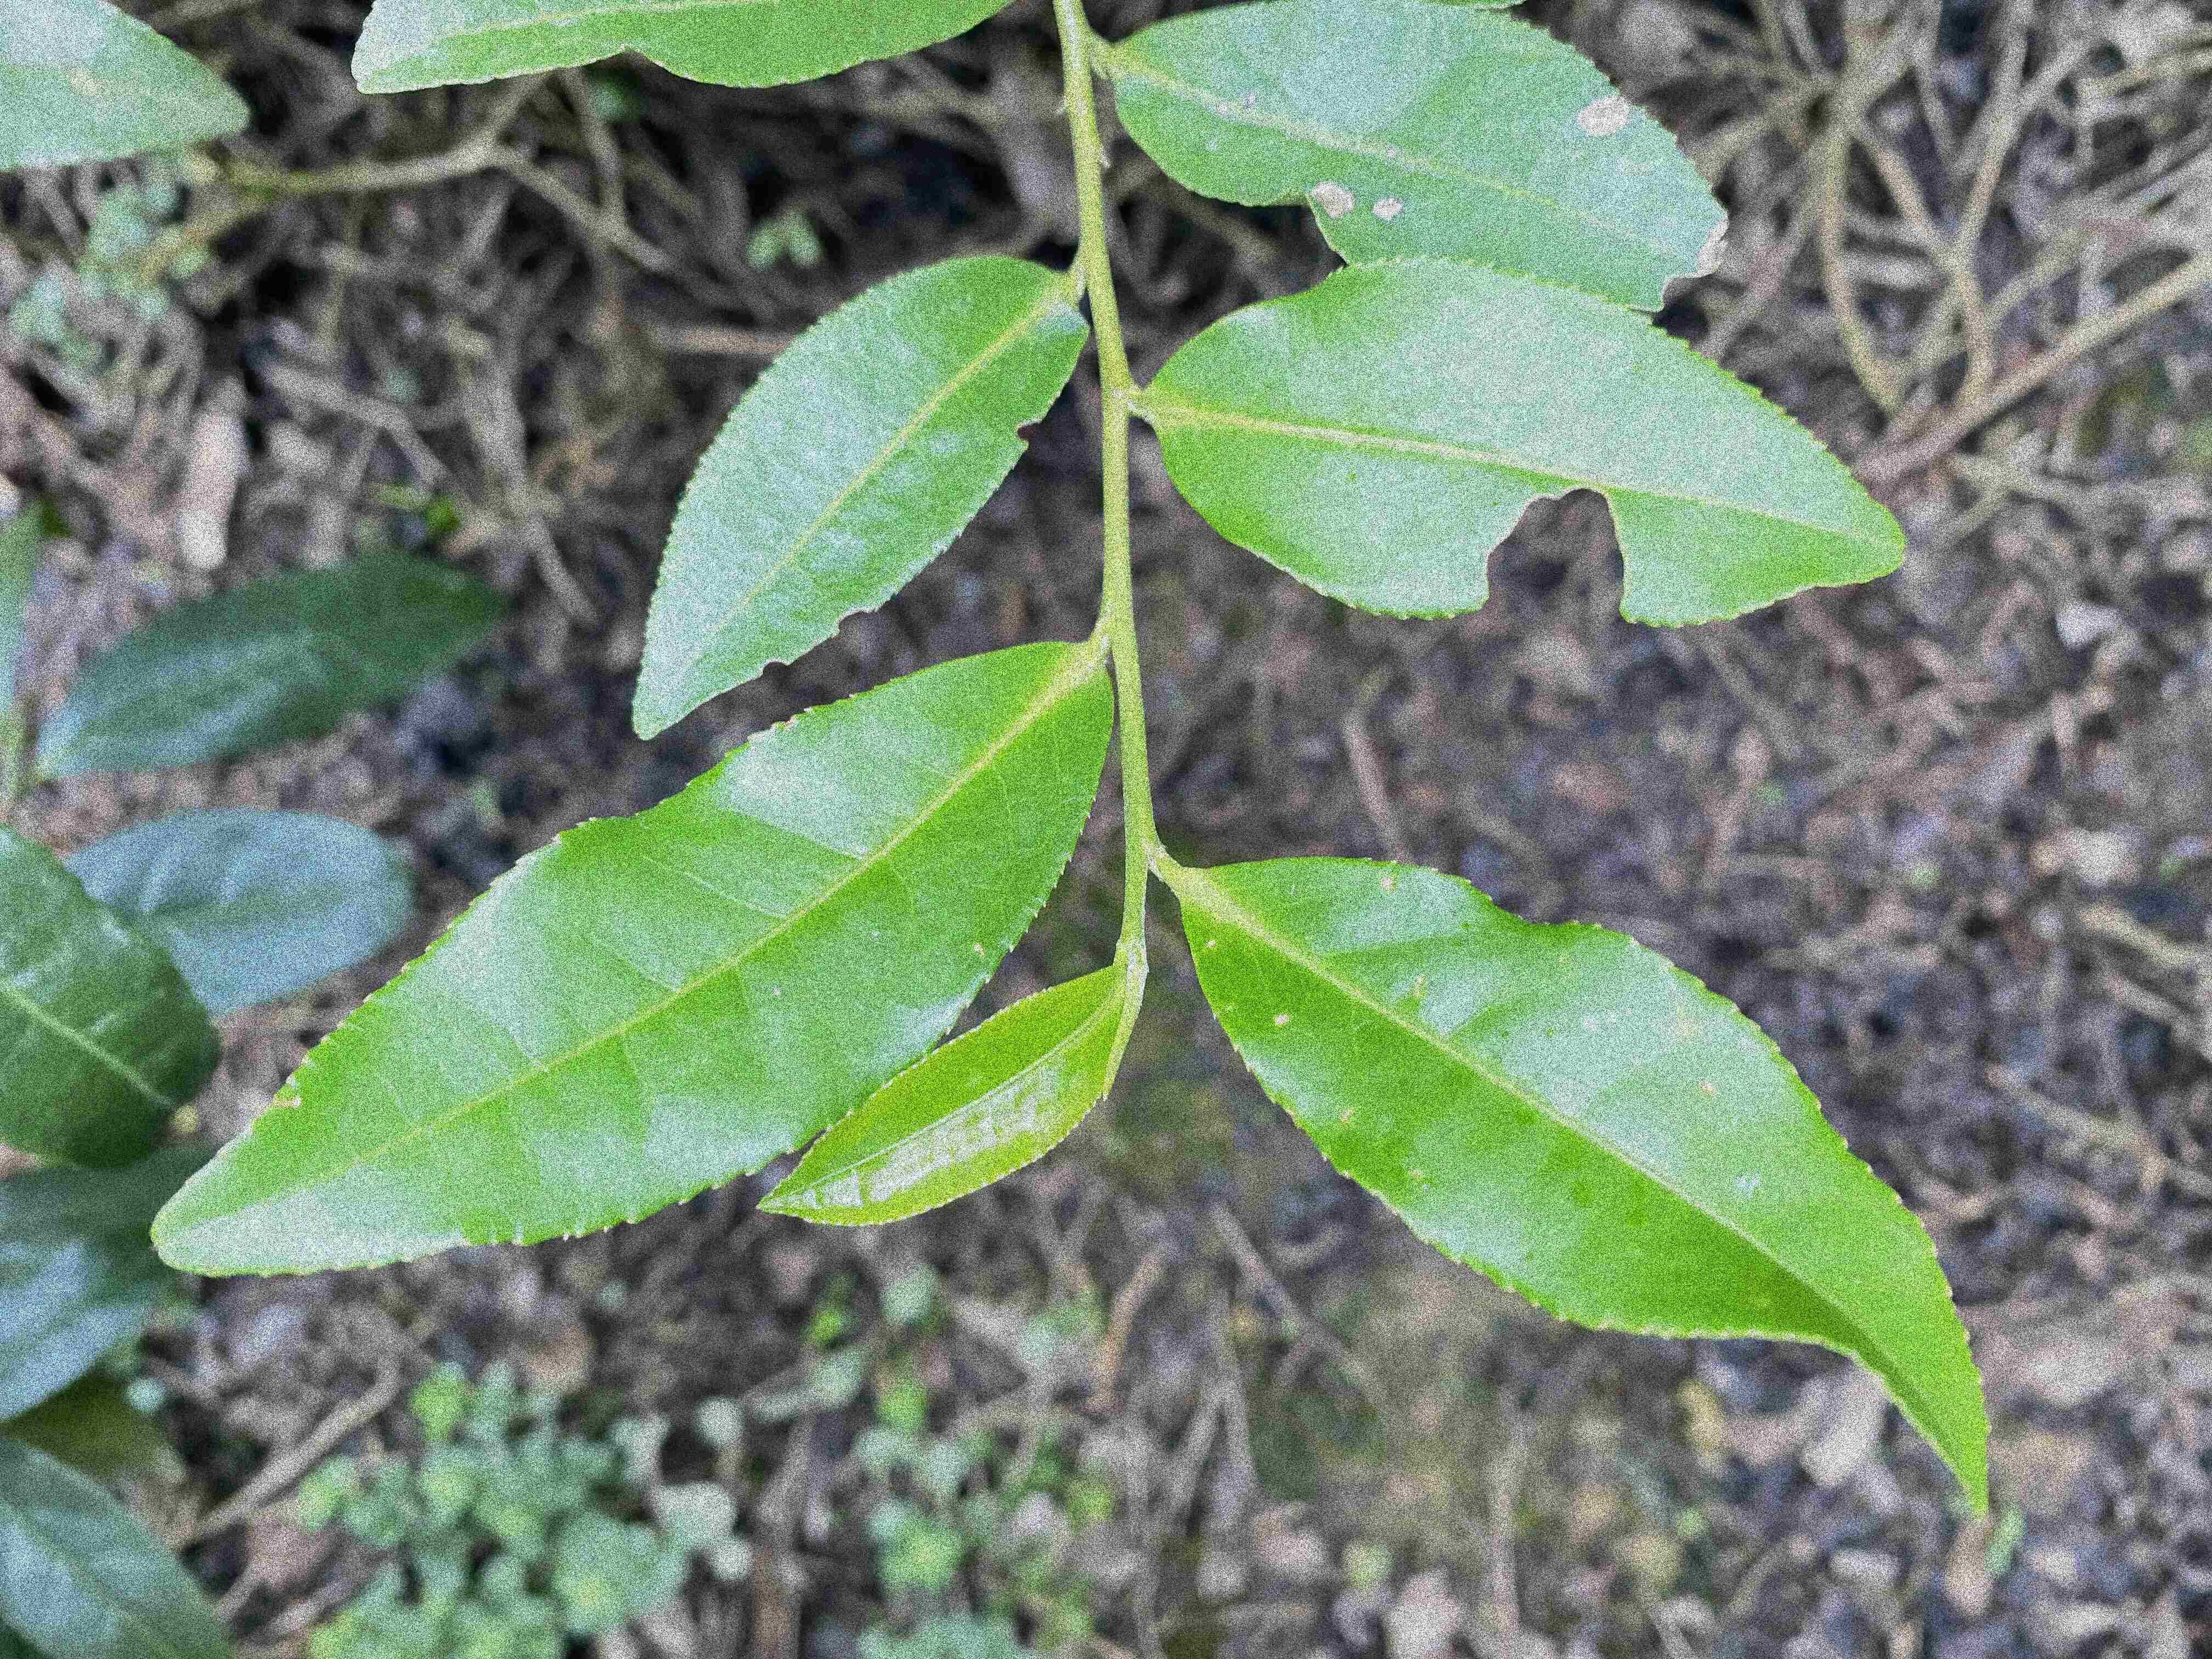chihuo_high: (627, 251, 1092, 741)
chihuo_low: (1144, 253, 1909, 626)
healthy: (152, 643, 1118, 1283), (754, 971, 1129, 1229)
tanju_high: (1104, 7, 1730, 310)
